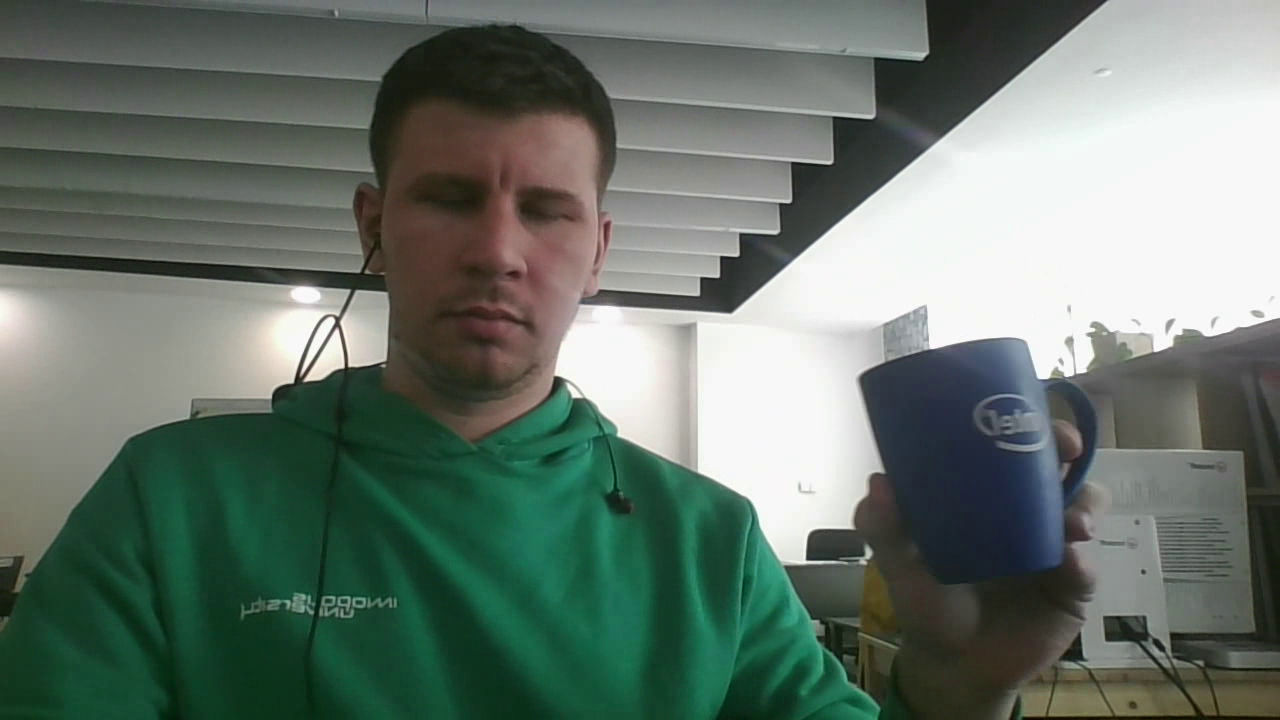cup: (854, 336, 1100, 586)
